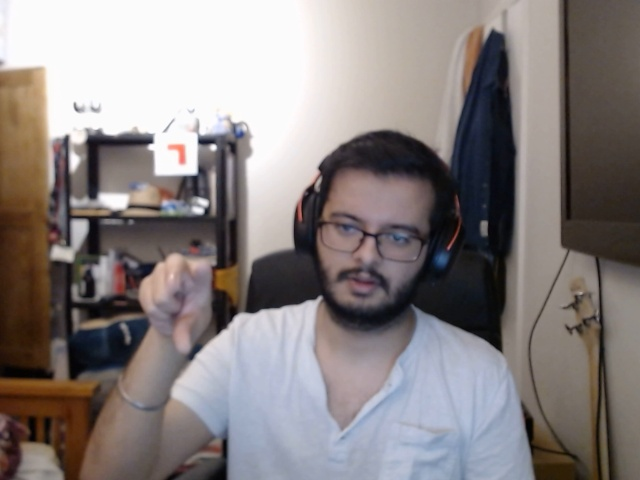No: (117, 234, 241, 353)
